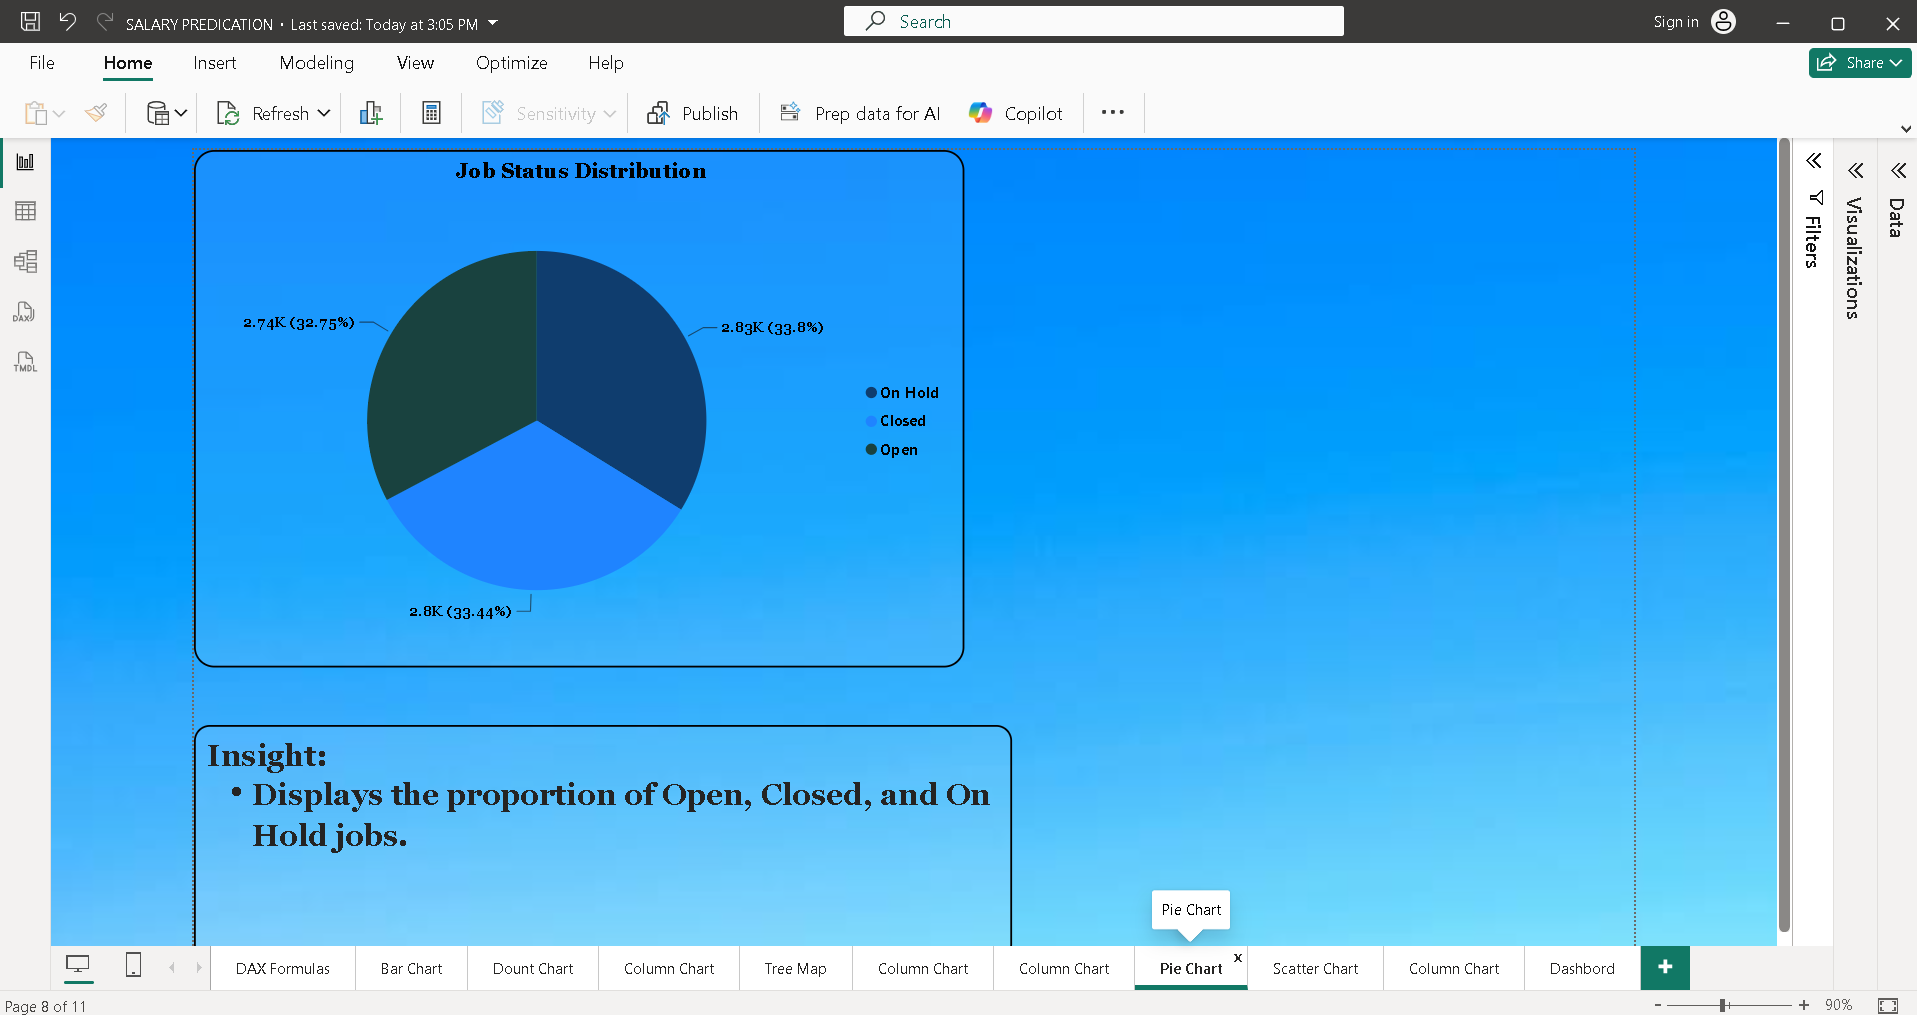

This screenshot's page, from the dashboard's own definition file:
{"tool":"powerbi","page":{"name":"Pie Chart ","canvas":[1280,720],"ordinal":7},"visuals":[{"type":"pieChart","title":"Job Status Distribution","fields":{"Category":["clean_job_market_salary_fixed.Status"],"Y":["CountNonNull(clean_job_market_salary_fixed.Job_ID)"]},"box":[0,0,684.8,459.8],"z":0},{"type":"textbox","box":[0,511.1,727.6,209.1],"z":1000}]}

Visuals, with their boxes on the page's 1280x720 design canvas (x1, y1, x2, y2). These are canvas units, not pixel positions in the 1917x1015 screenshot, which may show the page scaled, cropped or inside an application window:
"Job Status Distribution" pieChart: <region>0, 0, 685, 460</region>
textbox: <region>0, 511, 728, 720</region>
